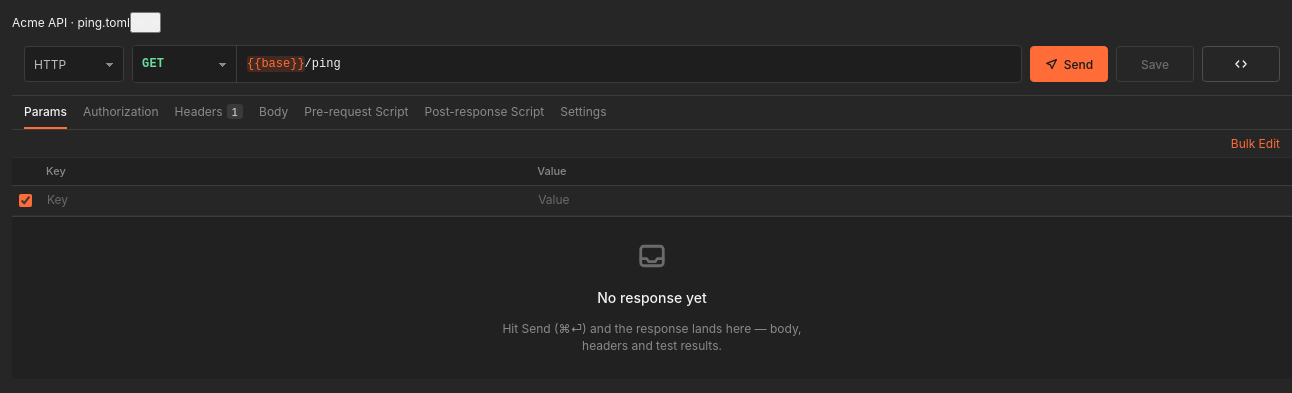
RequestEditor › runs the request through the host and renders the response
Expected: the field named "Url" is shown, top-left (237, 46), bottom-right (1021, 82)
What coordinates should you click on to do the following:
click the button titled "Send (⌘⏎)"
I would click on:
 (1069, 64)
Its box is top-left (1030, 46), bottom-right (1108, 82).
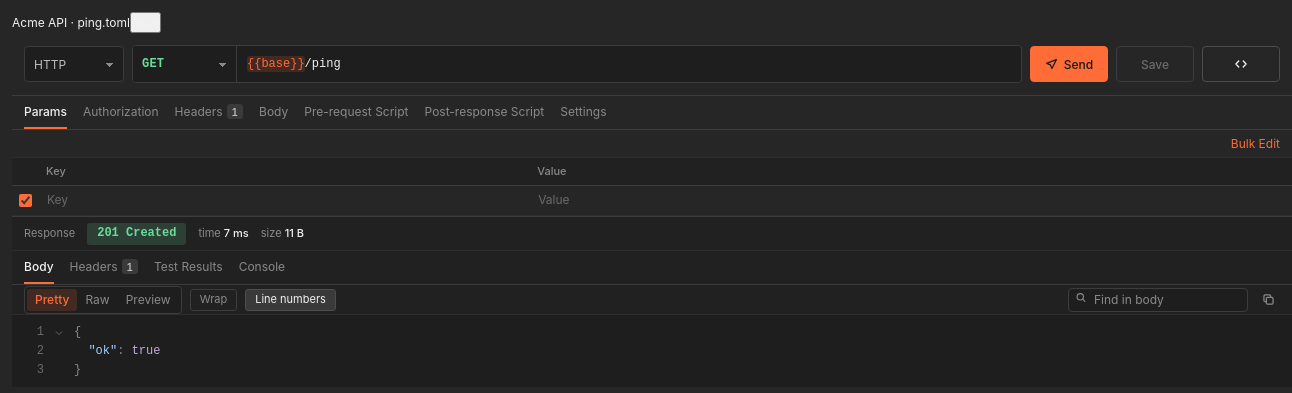
Expected: the button "local" is shown, top-left (130, 12), bottom-right (161, 33)
Expected: the text "201 Created" is shown, top-left (87, 223), bottom-right (186, 245)
